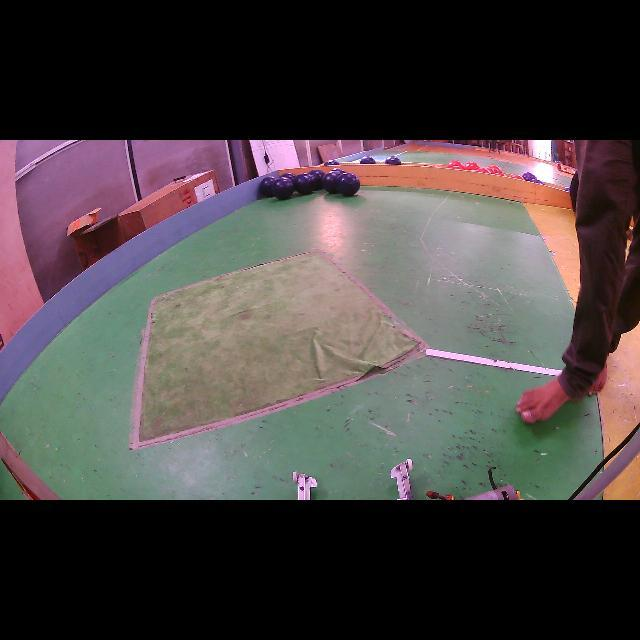B: (336, 172, 360, 196), (271, 178, 295, 200), (295, 172, 316, 195), (321, 171, 339, 194), (259, 176, 276, 198), (309, 170, 325, 189), (280, 172, 296, 181), (360, 156, 376, 165), (385, 156, 401, 165), (331, 169, 345, 174), (324, 160, 339, 164)
P: (522, 172, 536, 181), (531, 179, 544, 184)
R: (486, 165, 505, 176), (448, 160, 464, 169), (464, 161, 480, 170), (511, 175, 524, 180)
